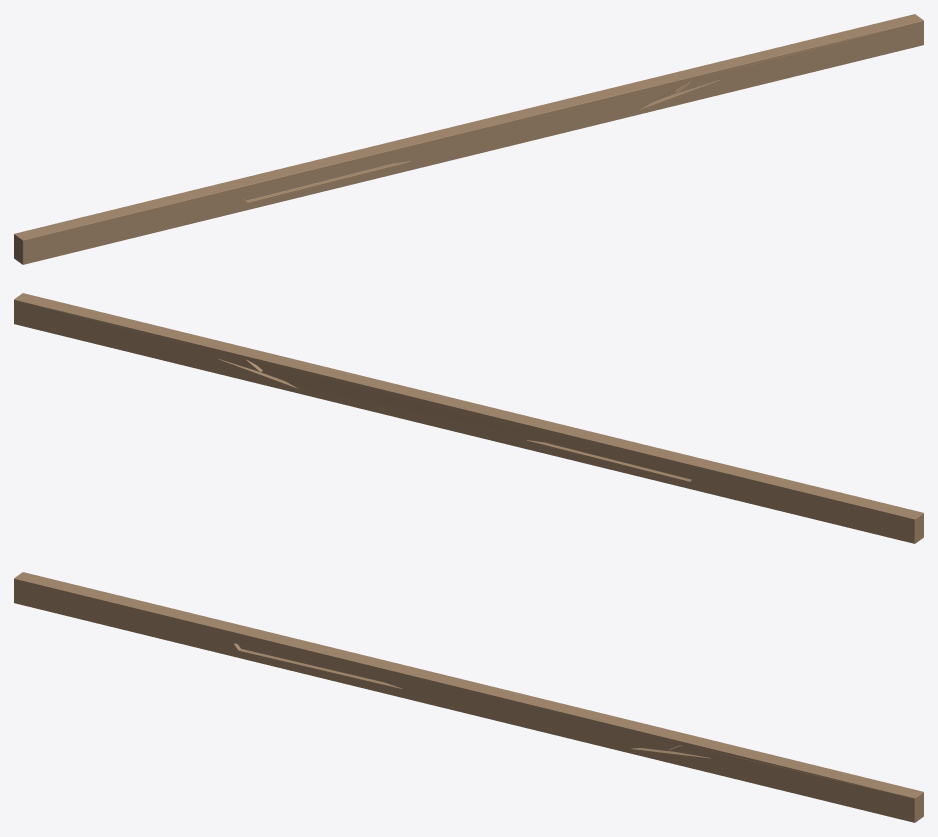
File: woodTrim.fbx
3 views of the same model, one above another, from view 1: azimuth 30°, elevation 25°; view 2: azimuth 150°, elevation 25°; view 3: azimuth 330°, elevation 25° (orthographic).
Parts seen in each view (by area): view 1: geo_woodTrim; view 2: geo_woodTrim; view 3: geo_woodTrim.
Part boxes in pixels (box(x1,y1,x2,y2)): geo_woodTrim: box(14, 14, 923, 264); geo_woodTrim: box(14, 293, 923, 543); geo_woodTrim: box(14, 572, 923, 822).
Bounding box in the file's own units: 970 × 25.54 × 16.86.
